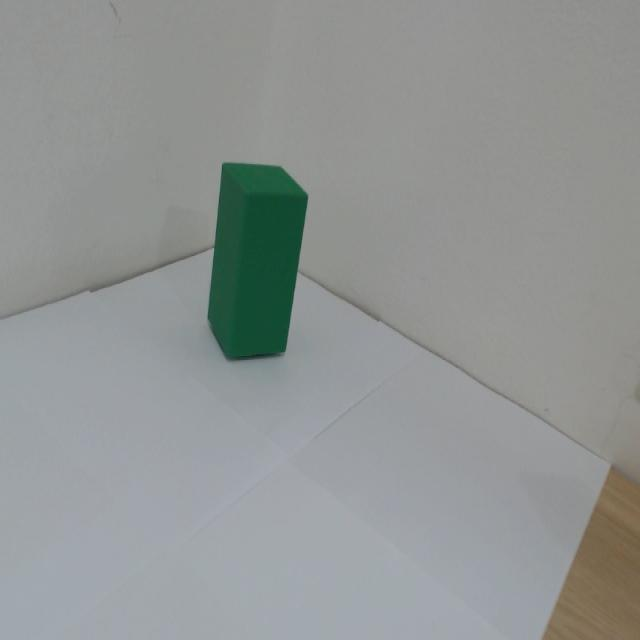cube: (191, 128, 322, 376)
